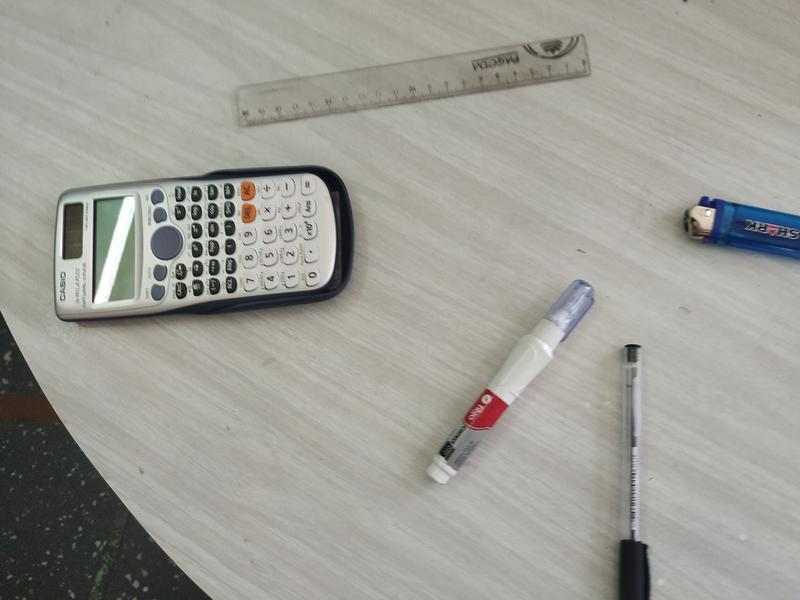calculadora: (54, 165, 357, 325)
corrector: (419, 271, 603, 498)
encendedor: (675, 184, 800, 263)
lapicera: (608, 337, 664, 600)
regla: (228, 32, 602, 130)
